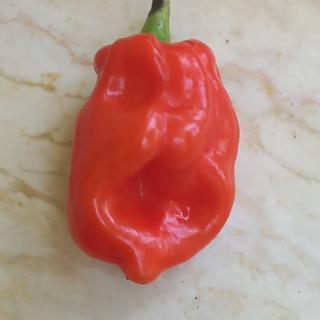Grade-A: (62, 32, 245, 287)
